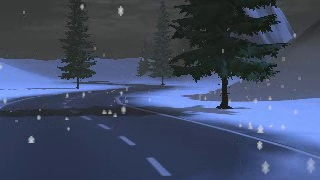Lane: (1, 86, 318, 179)
